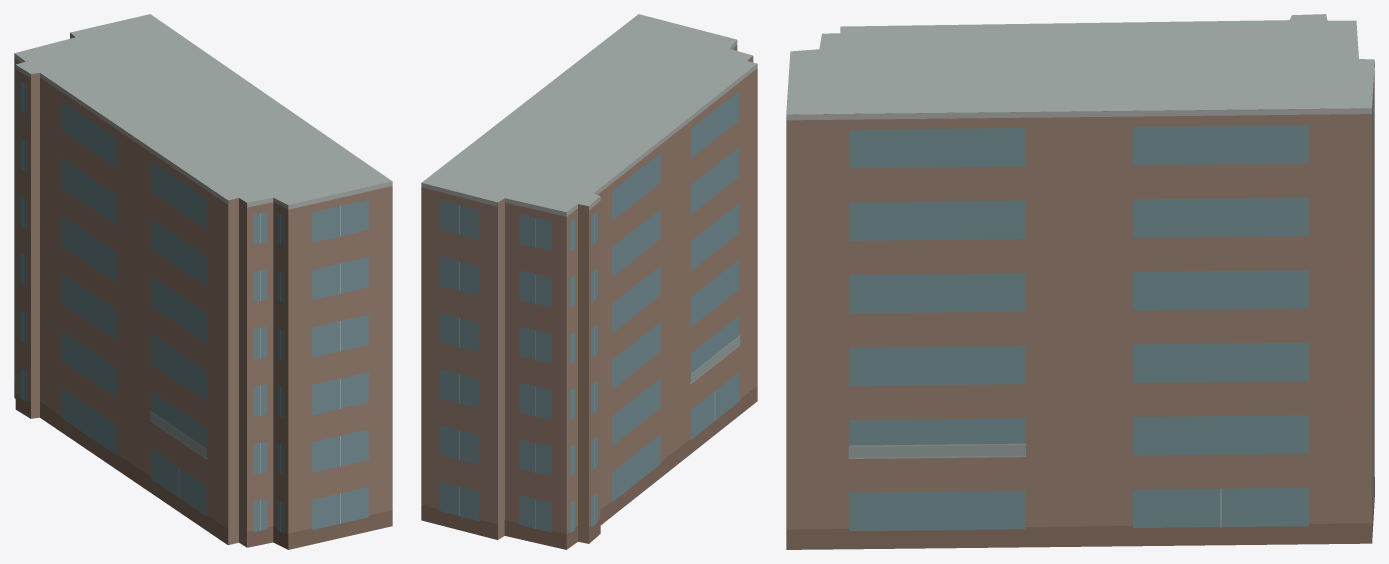
File: survey-upis-32946350.glb
The picture shows the model from 3 angles, left to right: view 1: azimuth 30°, elevation 25°; view 2: azimuth 150°, elevation 25°; view 3: azimuth 270°, elevation 25°; orthographic projection. The views are drawn at different scales.
Parts seen in each view (by area): view 1: survey-upis-32946350.tmp; view 2: survey-upis-32946350.tmp; view 3: survey-upis-32946350.tmp.
Boxes of the visible parts, x1=… form: survey-upis-32946350.tmp: x1=14, y1=14, x2=392, y2=549; survey-upis-32946350.tmp: x1=421, y1=14, x2=757, y2=549; survey-upis-32946350.tmp: x1=786, y1=14, x2=1374, y2=549.
Size of the model in its own units: 9.07 by 18.3 by 22.44.
